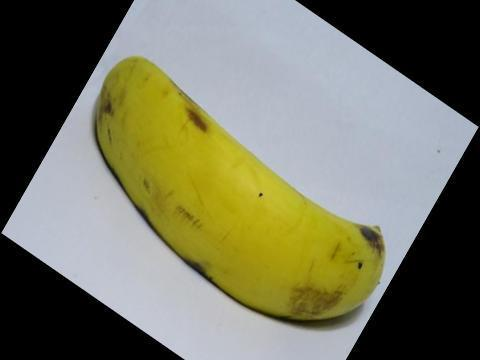freshripe: (85, 47, 403, 346)
